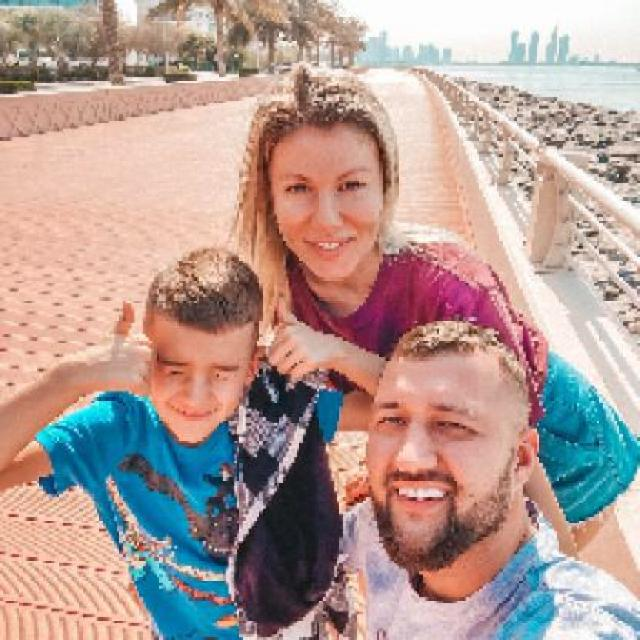child: (3, 245, 386, 638)
